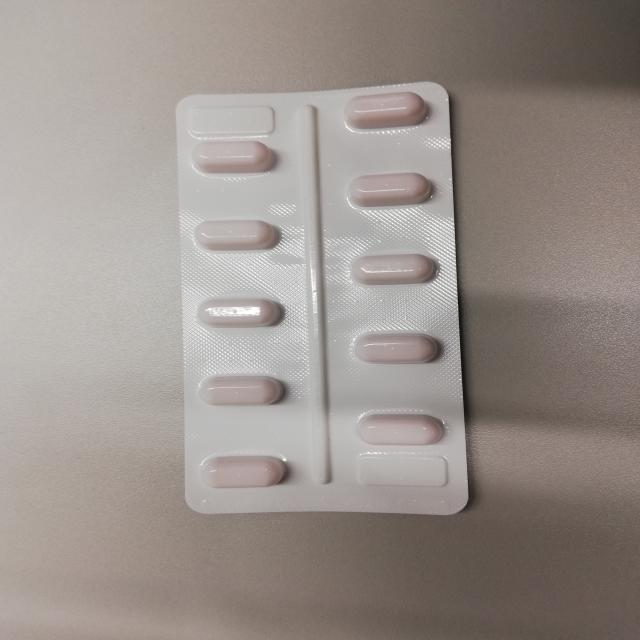Pill: (190, 443, 304, 497), (330, 168, 450, 215), (331, 86, 439, 136), (341, 243, 446, 293), (189, 365, 296, 414), (191, 289, 300, 336), (341, 322, 452, 368), (183, 215, 294, 260), (344, 408, 460, 449), (183, 137, 289, 178)
